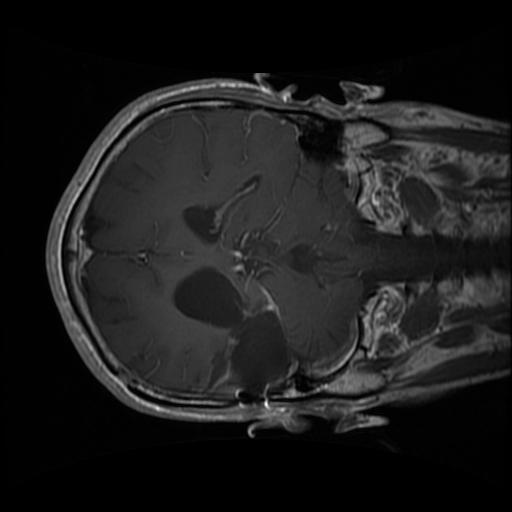glioma: (171, 264, 296, 399)
